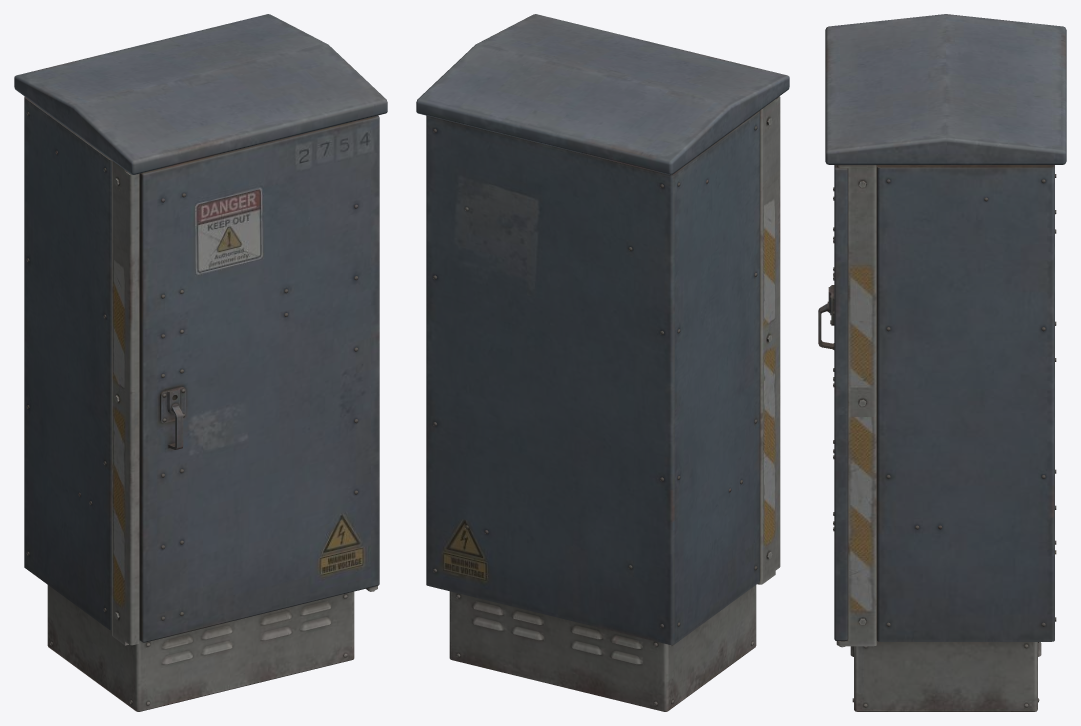
File: ph_utility_box.gltf
3 views of the same model, side by side, from view 1: azimuth 30°, elevation 25°; view 2: azimuth 150°, elevation 25°; view 3: azimuth 270°, elevation 25° (orthographic).
Visible parts, largest first — view 1: Body; view 2: Body; view 3: Body.
Boxes of the visible parts, left/top/right/bottom form: Body: left=14, top=14, right=387, bottom=711; Body: left=416, top=14, right=789, bottom=711; Body: left=818, top=14, right=1066, bottom=711.
Size of the model in its own units: 0.52 by 1.12 by 0.432.
1 material, 1 textured.
